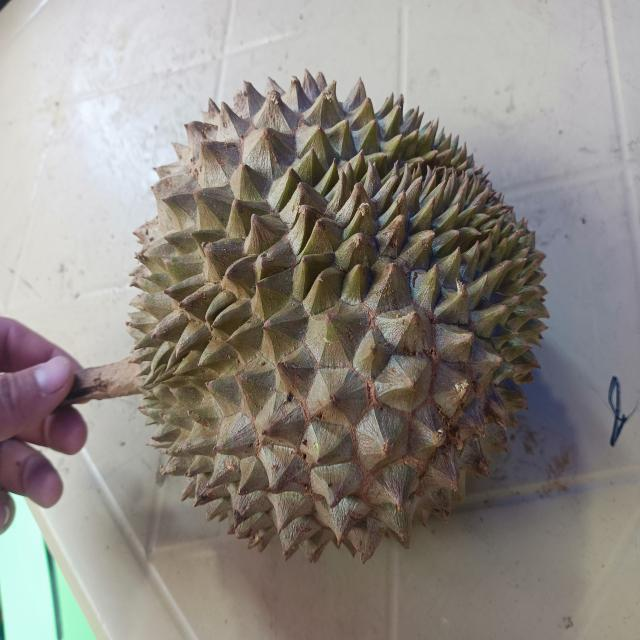mature: (129, 71, 548, 562)
